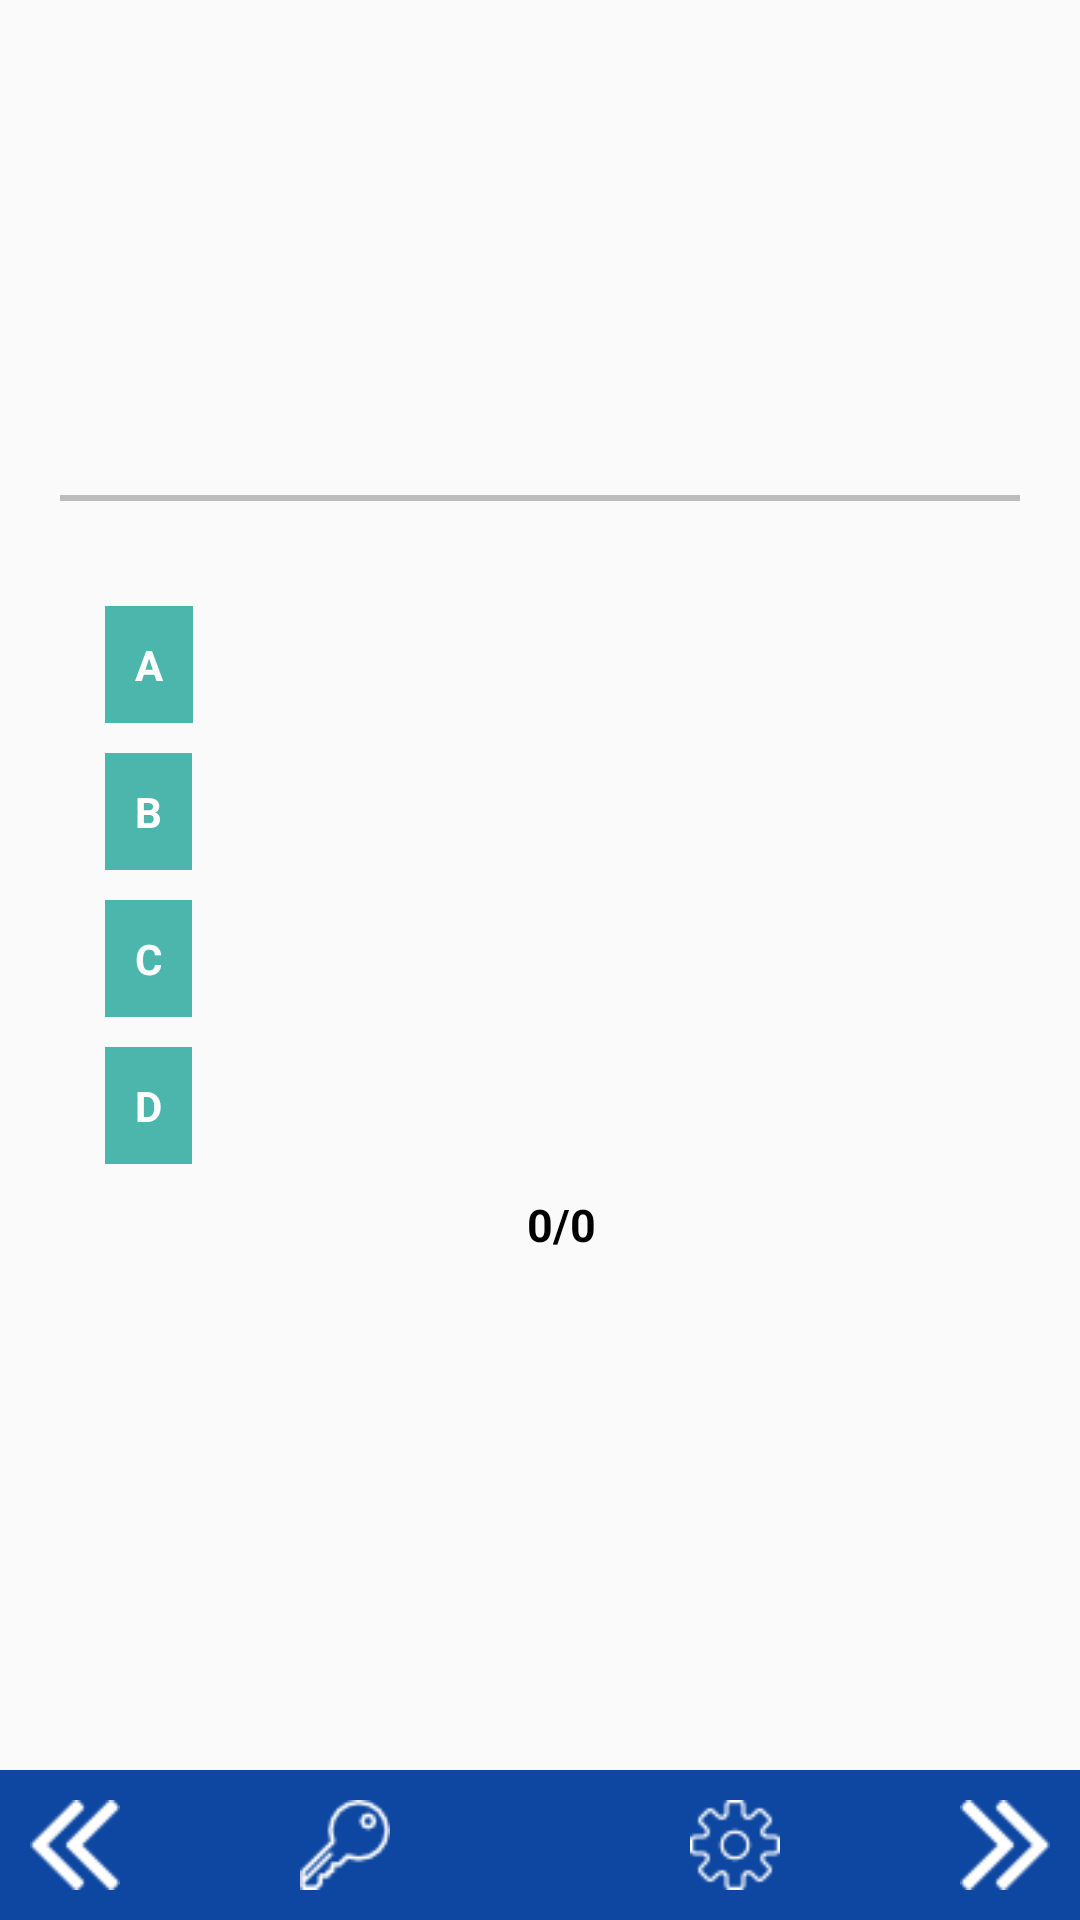

Named icons in this screenshot (1080x1920) and their centers, (x,y):
doubleleftarrow: (75,1845)
doublerightarrow: (1005,1845)
key: (345,1845)
settings: (735,1845)
